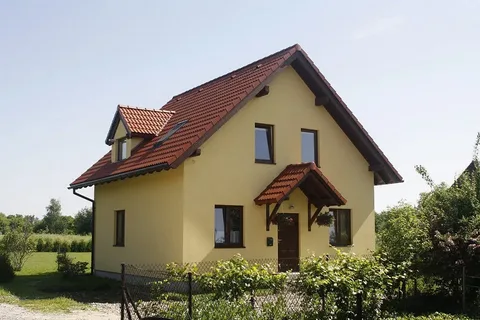private_hause: (65, 32, 402, 277)
